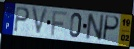0: (69, 12, 83, 40)
F: (50, 10, 68, 37)
N: (85, 13, 105, 42)
P: (101, 15, 120, 43), (13, 5, 31, 33)
V: (31, 6, 50, 38)
